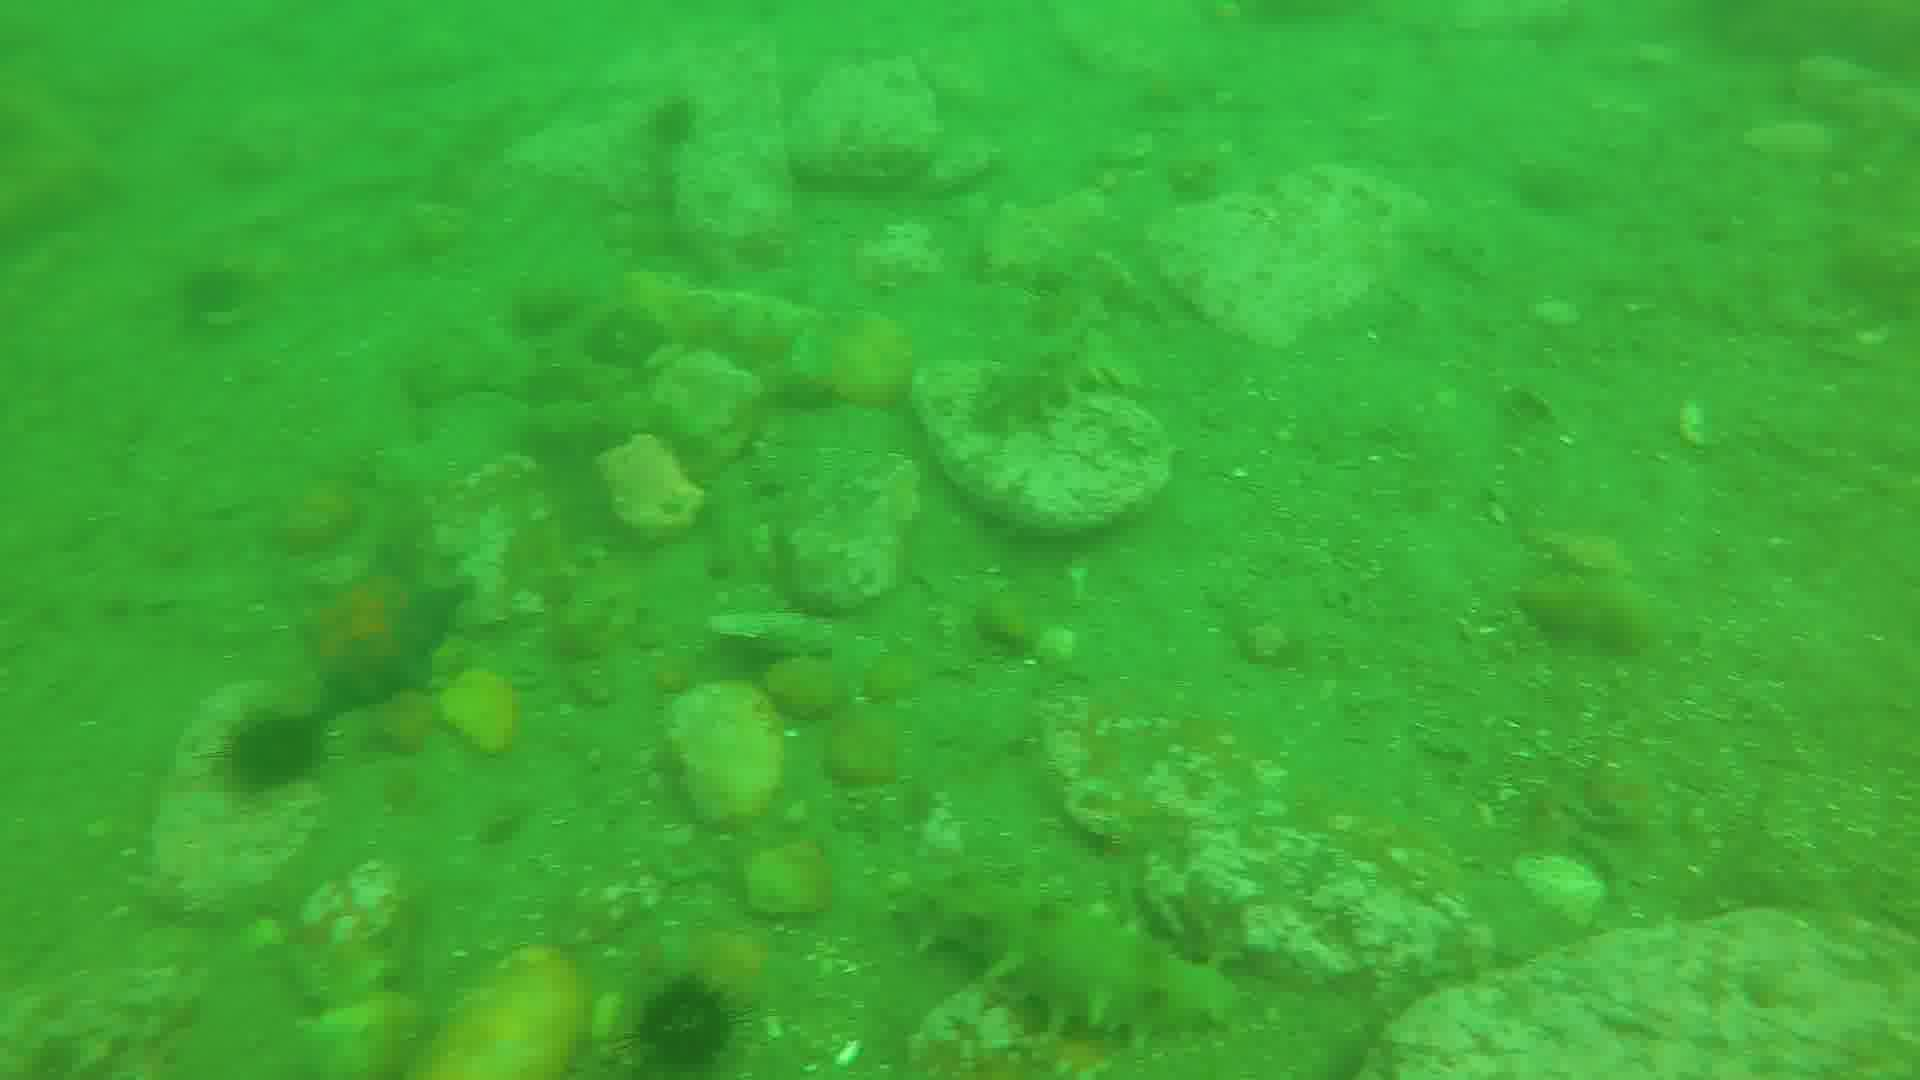echinus: (626, 975, 744, 1073), (224, 709, 328, 795)
holothurian: (901, 849, 1245, 1036), (982, 285, 1118, 429)
starfish: (307, 556, 463, 709)
